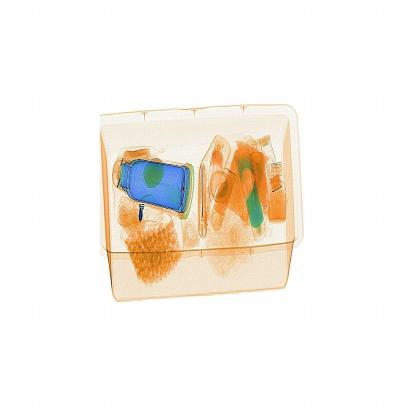wrench: (194, 146, 212, 245)
